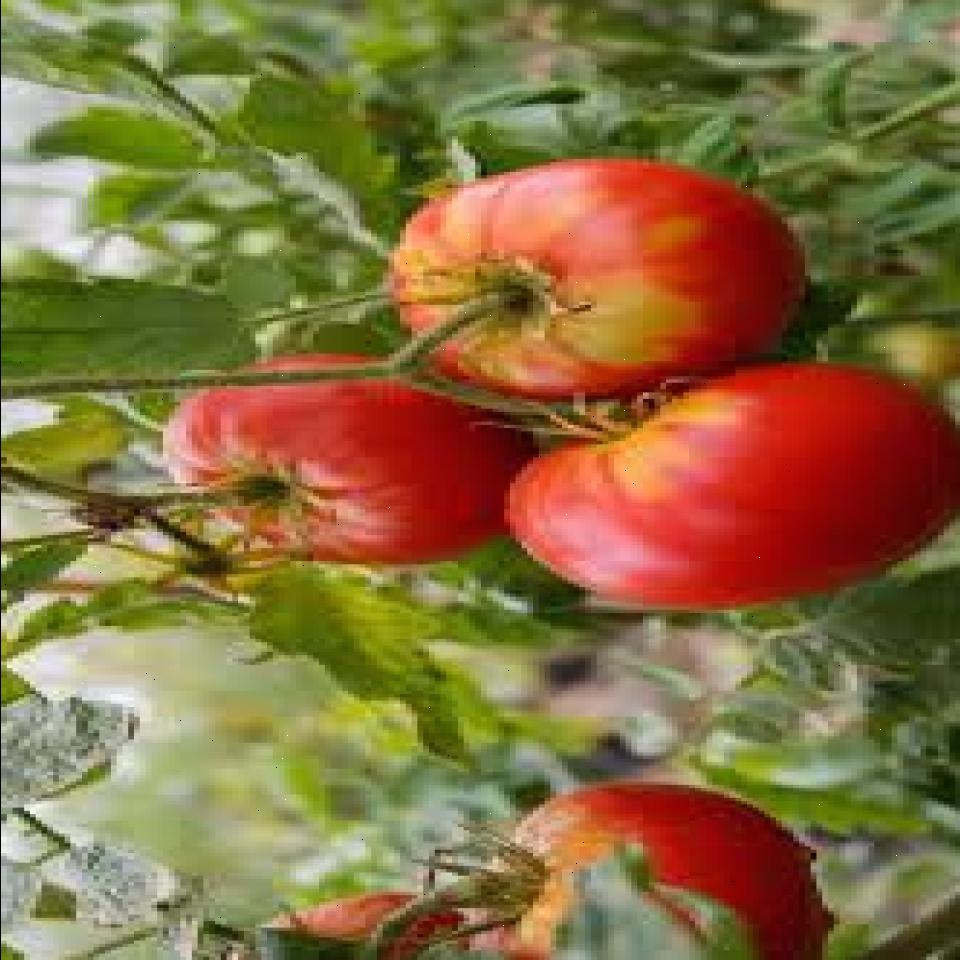Spotted wilt Virus: (491, 360, 960, 609), (389, 156, 821, 398), (162, 352, 525, 564), (457, 778, 827, 960)
